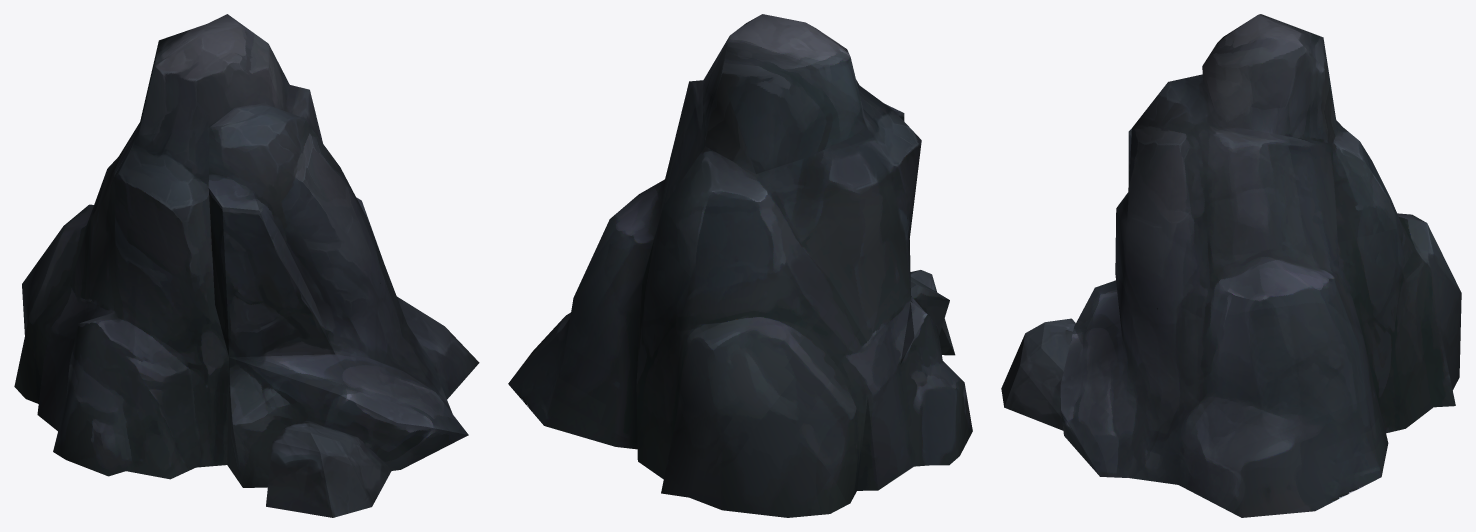
The model's file is sanhj_stone_01.FBX.
The picture shows the model from 3 angles, left to right: view 1: azimuth 30°, elevation 25°; view 2: azimuth 150°, elevation 25°; view 3: azimuth 270°, elevation 25°; orthographic projection. The views are drawn at different scales.
Parts seen in each view (by area): view 1: xueshan_st_05; view 2: xueshan_st_05; view 3: xueshan_st_05.
Boxes of the visible parts, box(x1,y1,x2,y2) form: xueshan_st_05: box(14, 14, 479, 517); xueshan_st_05: box(508, 14, 972, 517); xueshan_st_05: box(1001, 14, 1461, 517).
Size of the model in its own units: 11.11 by 9.95 by 11.05.
